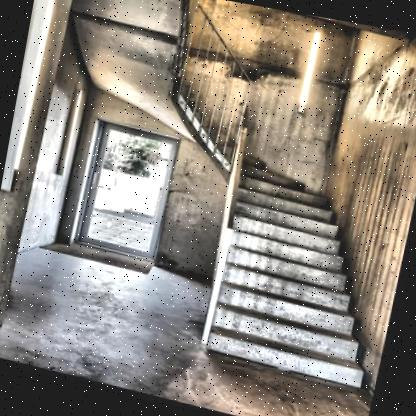door: (69, 117, 182, 263)
stair: (200, 171, 394, 389)
